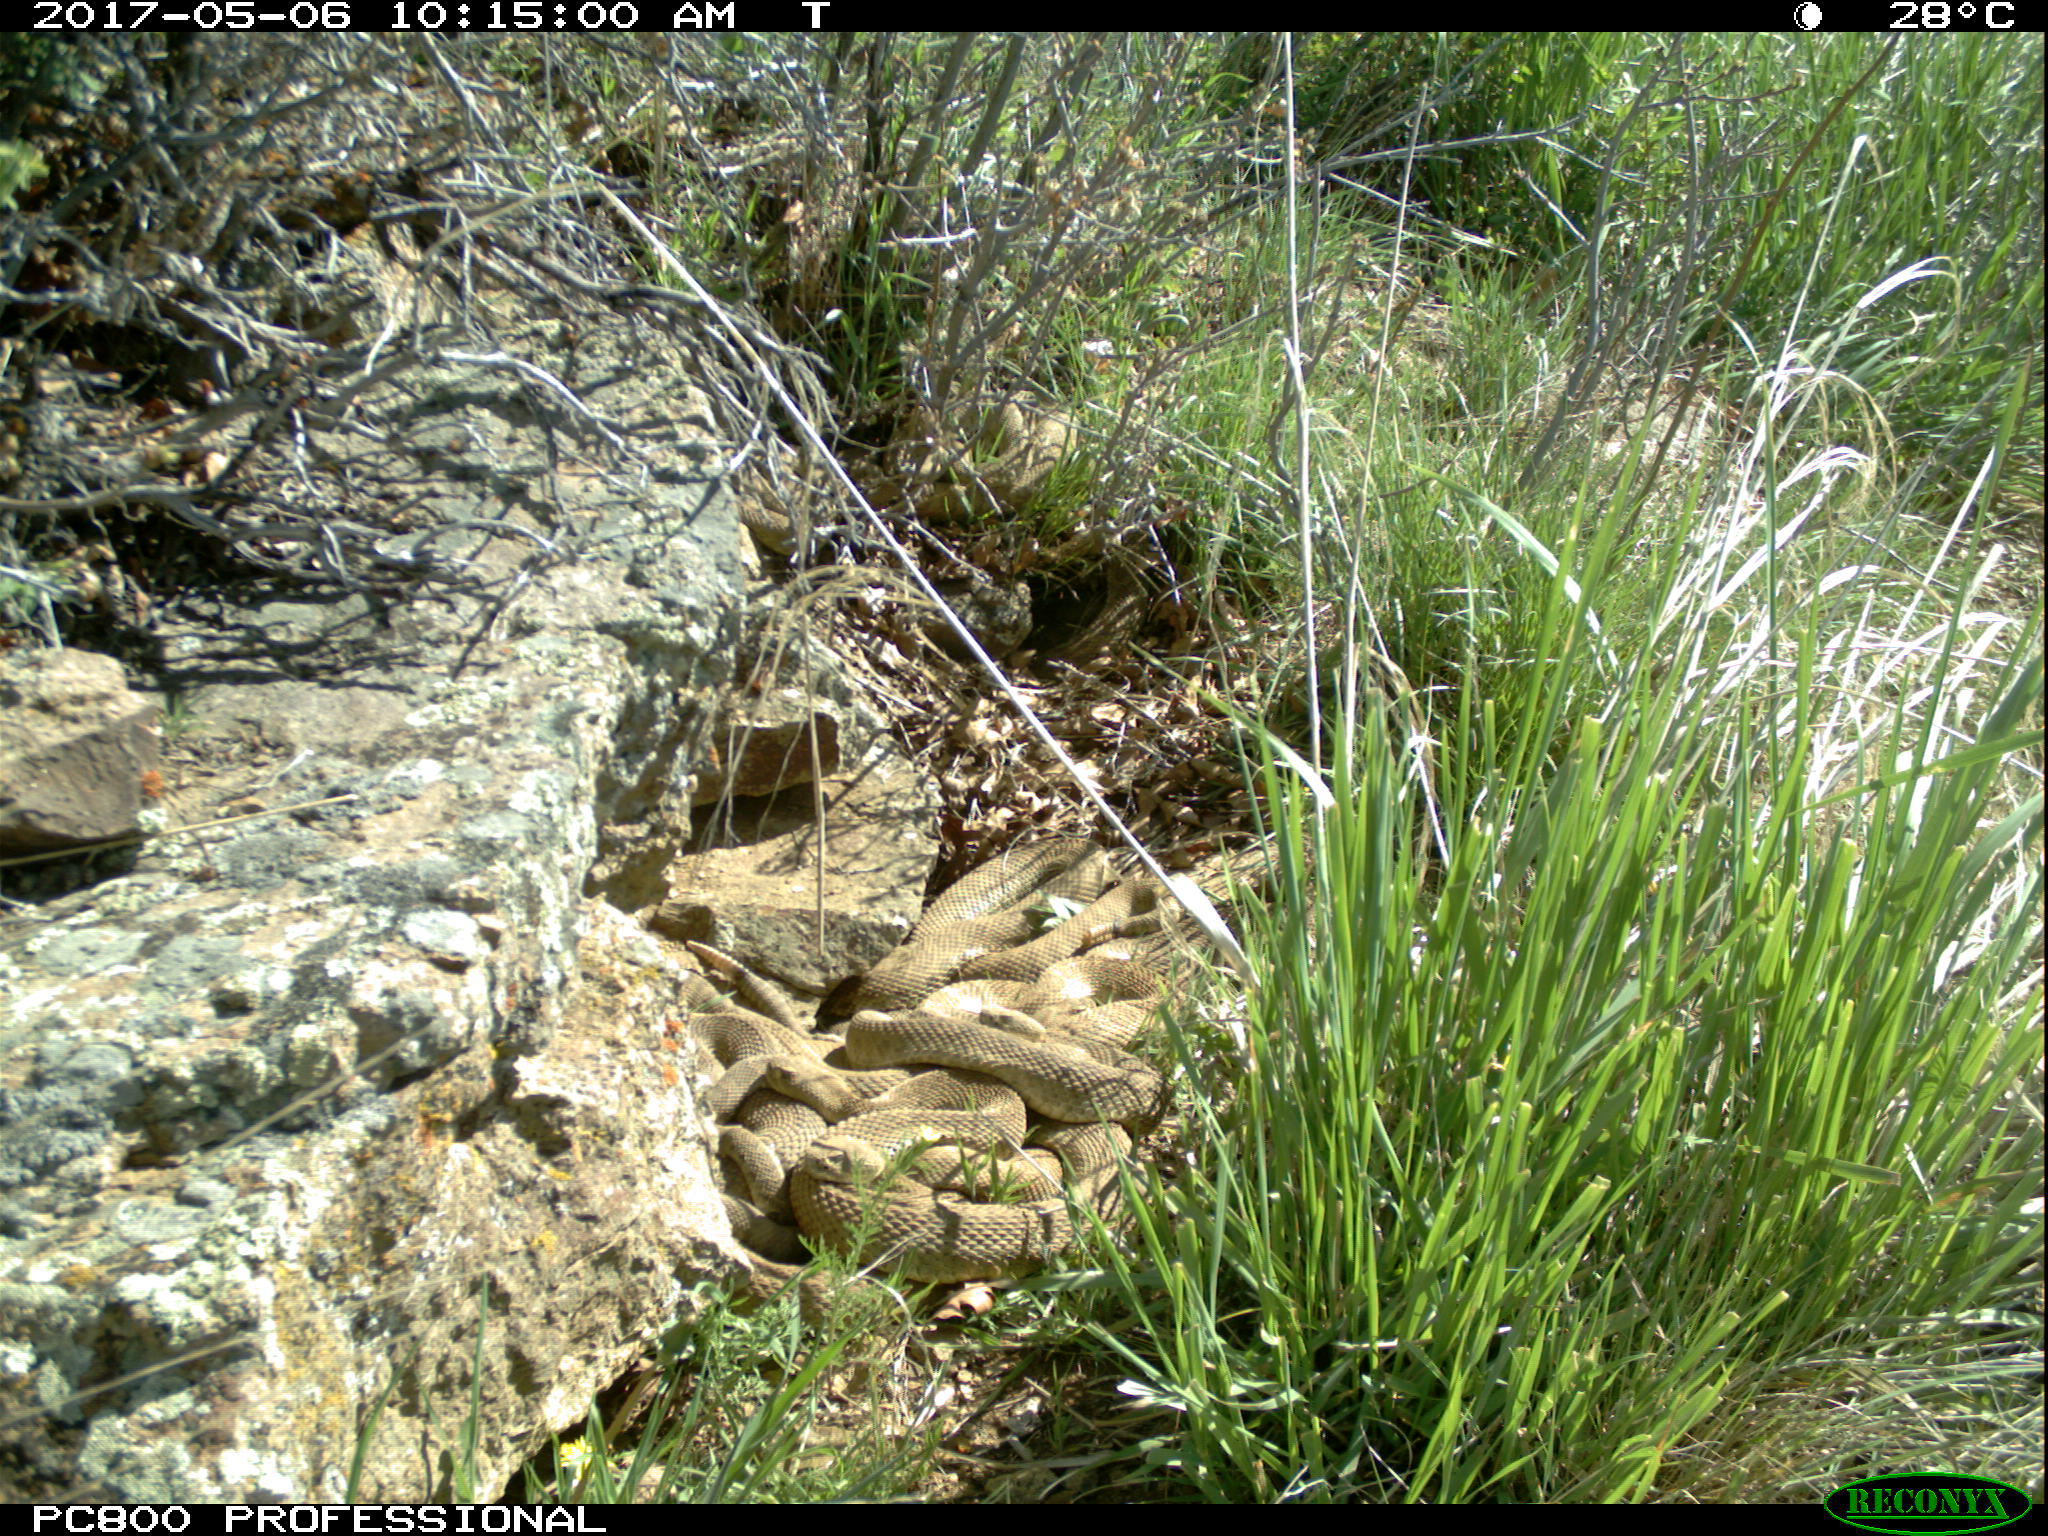snake: (681, 941, 937, 1265), (785, 1097, 1156, 1283), (847, 915, 1171, 1117), (943, 852, 1305, 966)
